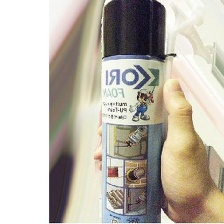aerosol_cans: (92, 0, 170, 223)
